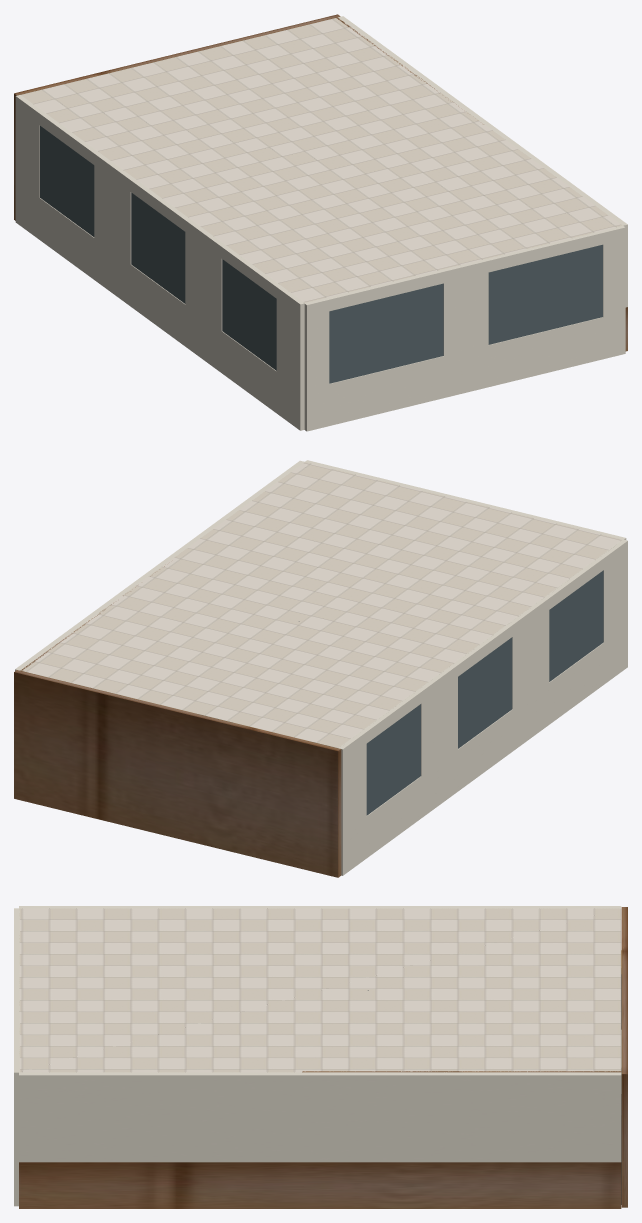
File: room-K01-F02-T029.glb
3 views of the same model, one above another, from view 1: azimuth 30°, elevation 25°; view 2: azimuth 150°, elevation 25°; view 3: azimuth 270°, elevation 25° (orthographic). The views are drawn at different scales.
Visible parts, largest first — view 1: room-K01-F02-T029-mesh (×19); view 2: room-K01-F02-T029-mesh (×13); view 3: room-K01-F02-T029-mesh (×7).
Part boxes in pixels (x1,y1,x2,y2): room-K01-F02-T029-mesh (×19): (14, 14, 627, 431); room-K01-F02-T029-mesh (×13): (14, 460, 627, 877); room-K01-F02-T029-mesh (×7): (14, 906, 627, 1208).
Size of the model in its own units: 8.81 by 3.25 by 13.53.
Materials: 27 (10 with a texture image).
